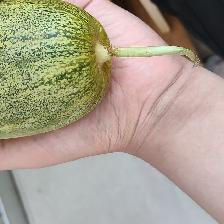gua: (14, 11, 116, 123)
